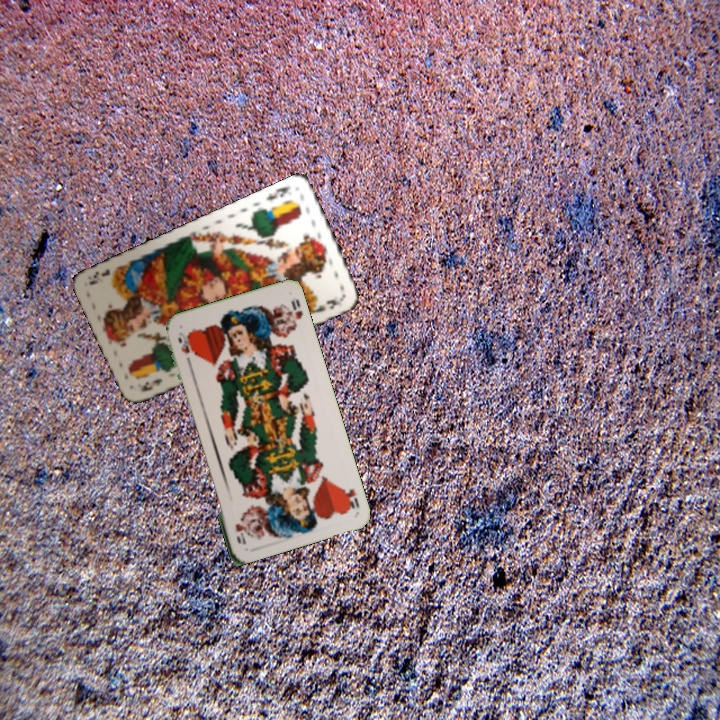EK: (262, 182, 293, 203), (137, 374, 165, 394)
HO: (338, 482, 362, 513), (174, 331, 194, 367)
